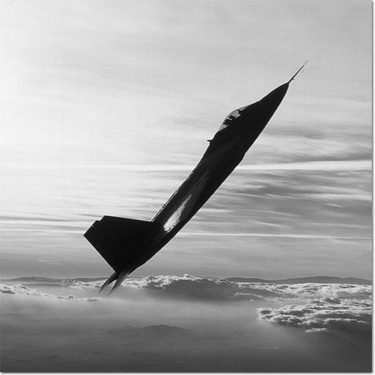airplane: (78, 54, 313, 296)
